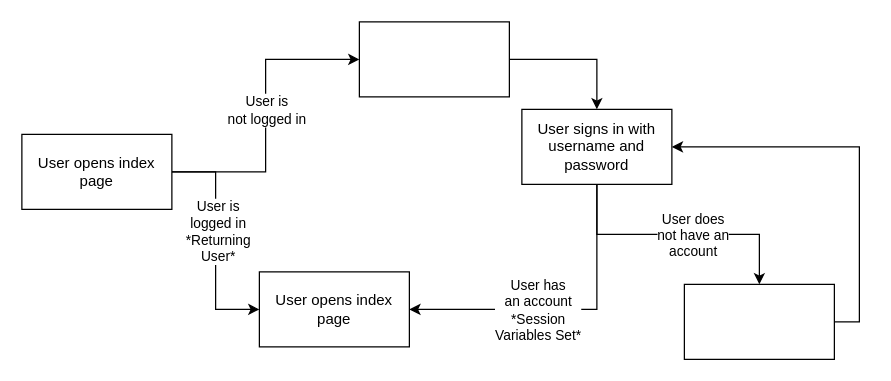
This 891x381 diagram has some shape labels left out. The box of each missing label's shape, as (x1, y1, x2, y2) in pixels:
User creates an account: (683, 283, 834, 359)
User is redirected to login page: (358, 21, 509, 97)
